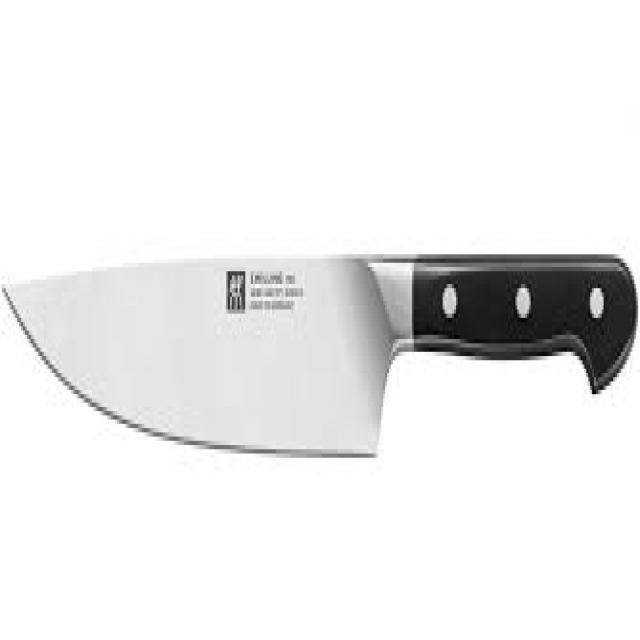Knife: (4, 254, 636, 454)
